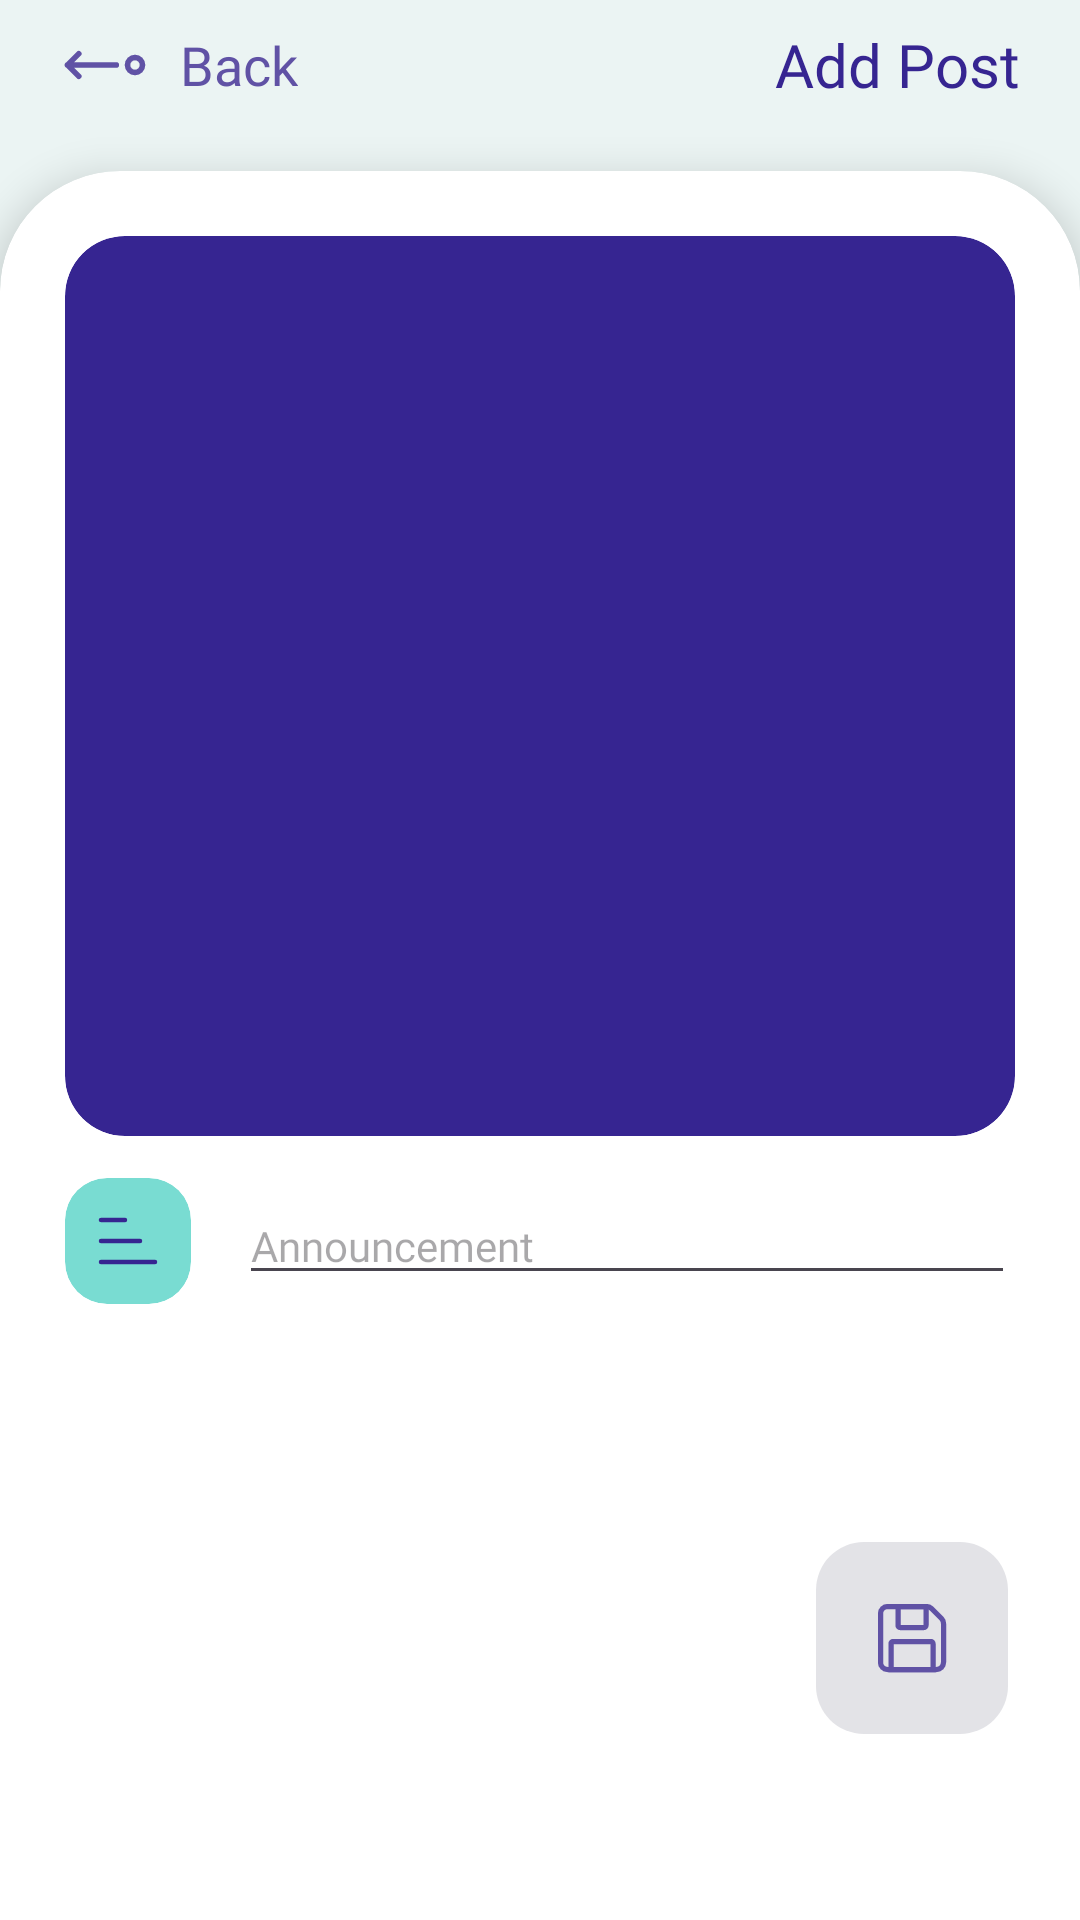

Screen size 1080px x 1920px. Icon name, then its box in pixels as (x1, y1, x2, y2):
dot arrow left: (64, 50, 146, 80)
floppy disk: (816, 1542, 1008, 1734)
